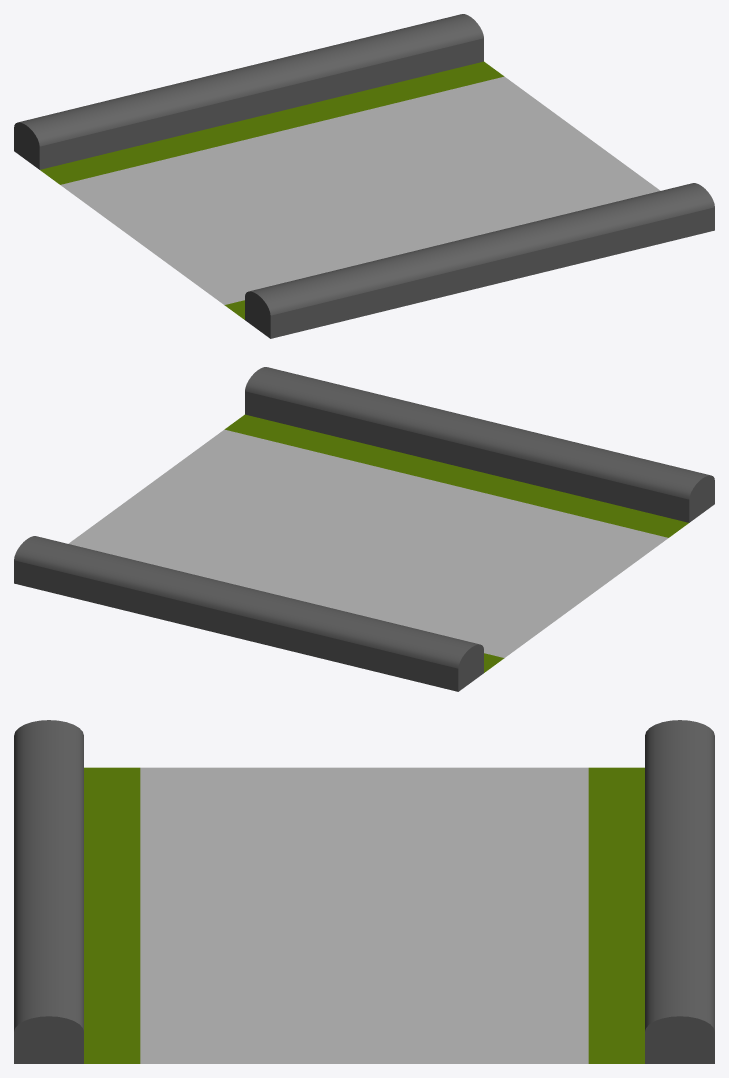
Rendered from straight.gltf.
3 views of the same model, one above another, from view 1: azimuth 30°, elevation 25°; view 2: azimuth 150°, elevation 25°; view 3: azimuth 270°, elevation 25° (orthographic). The views are drawn at different scales.
Visible parts, largest first — view 1: $ColladaAutoName$_0; view 2: $ColladaAutoName$_0; view 3: $ColladaAutoName$_0.
Boxes of the visible parts, left/top/right/bottom form: $ColladaAutoName$_0: left=14, top=14, right=714, bottom=338; $ColladaAutoName$_0: left=14, top=367, right=714, bottom=691; $ColladaAutoName$_0: left=14, top=720, right=714, bottom=1063.
Size of the model in its own units: 1 by 0.075 by 1.
